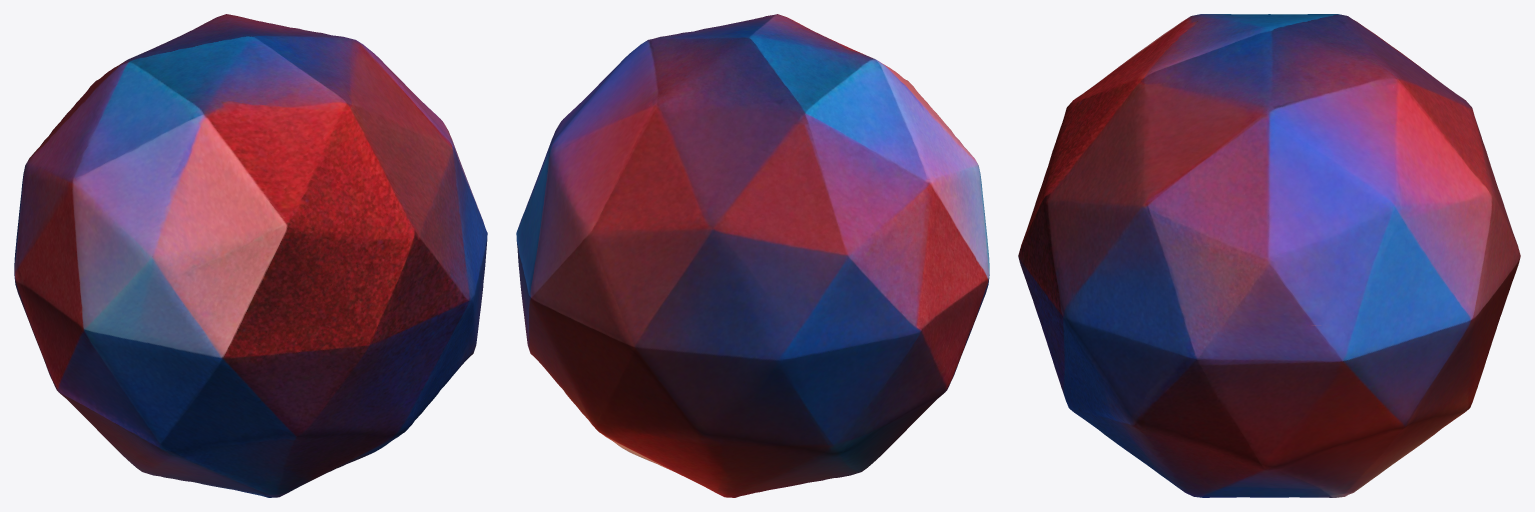
Rendered from redbluetriagnlesphere.glb.
3 views of the same model, side by side, from view 1: azimuth 30°, elevation 25°; view 2: azimuth 150°, elevation 25°; view 3: azimuth 270°, elevation 25° (orthographic). The views are drawn at different scales.
Size of the model in its own units: 1.92 by 1.99 by 1.99.
1 material, 1 textured.
